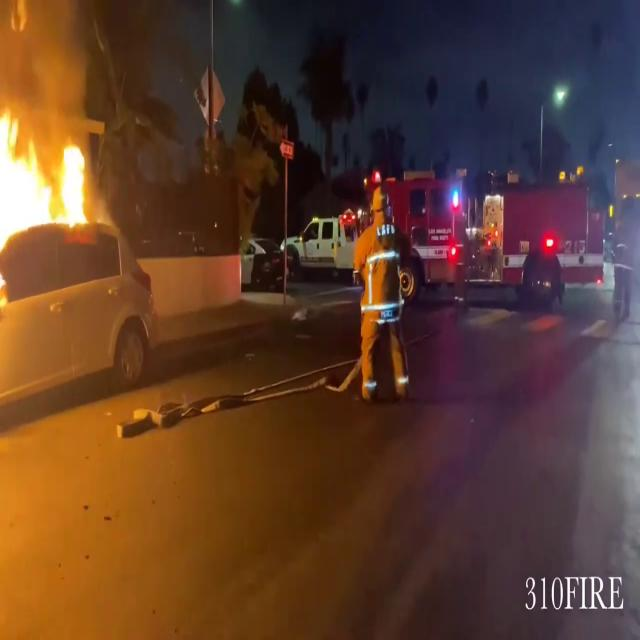Fire: (0, 95, 100, 309)
